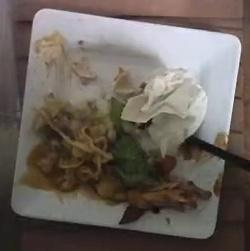asian_noodles: (27, 99, 114, 191)
